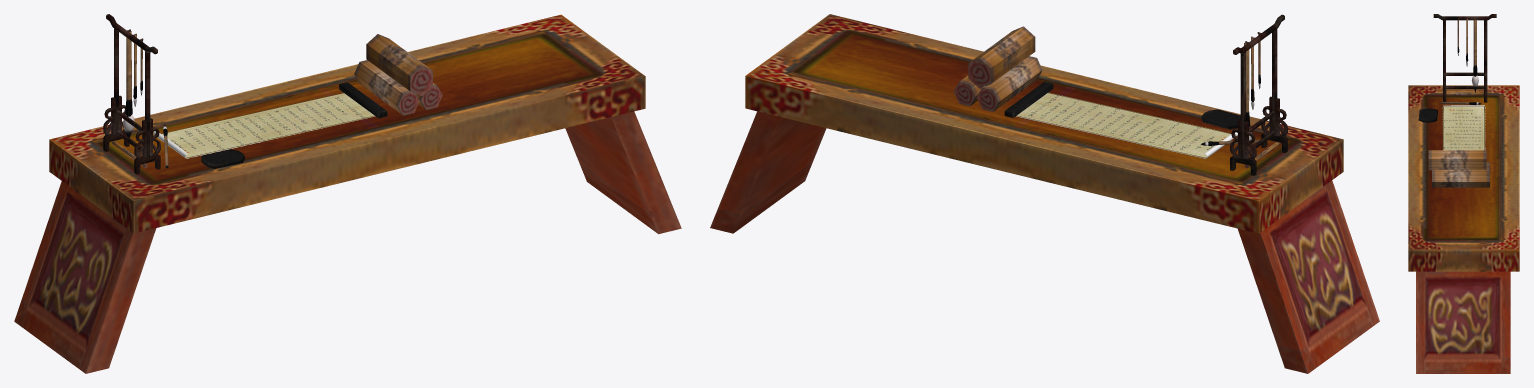
File: 案桌卷轴.fbx
The picture shows the model from 3 angles, left to right: view 1: azimuth 30°, elevation 25°; view 2: azimuth 150°, elevation 25°; view 3: azimuth 270°, elevation 25°; orthographic projection. The views are drawn at different scales.
Visible parts, largest first — view 1: Null, 立方体; view 2: Null, 立方体; view 3: Null, 立方体.
Boxes of the visible parts, x1=… form: Null: x1=14, y1=14, x2=681, y2=373; 立方体: x1=153, y1=93, x2=375, y2=158; Null: x1=710, y1=14, x2=1379, y2=373; 立方体: x1=1016, y1=92, x2=1237, y2=158; Null: x1=1408, y1=14, x2=1519, y2=373; 立方体: x1=1442, y1=105, x2=1485, y2=150.
Size of the model in its own units: 829 by 392 by 203.
5 materials, 4 textured.
